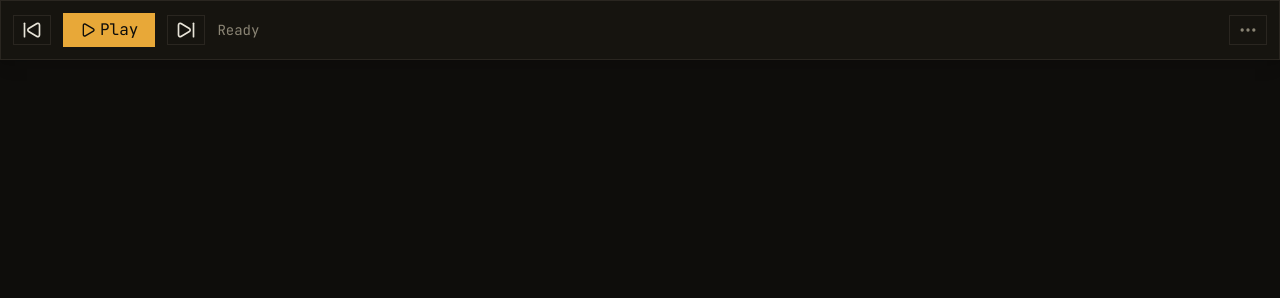
Test: PlayerBar › disables go-to-current when there is no current paragraph
Step 1. Click the button named "More playback controls" → coordinates (1248, 30), box [1229,15,1267,45]
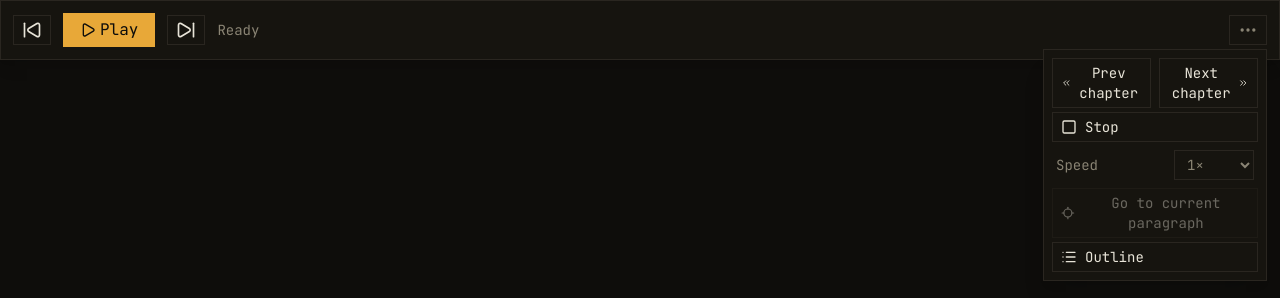
Now the button "Go to current paragraph" is disabled, box [1052,188,1258,238]
